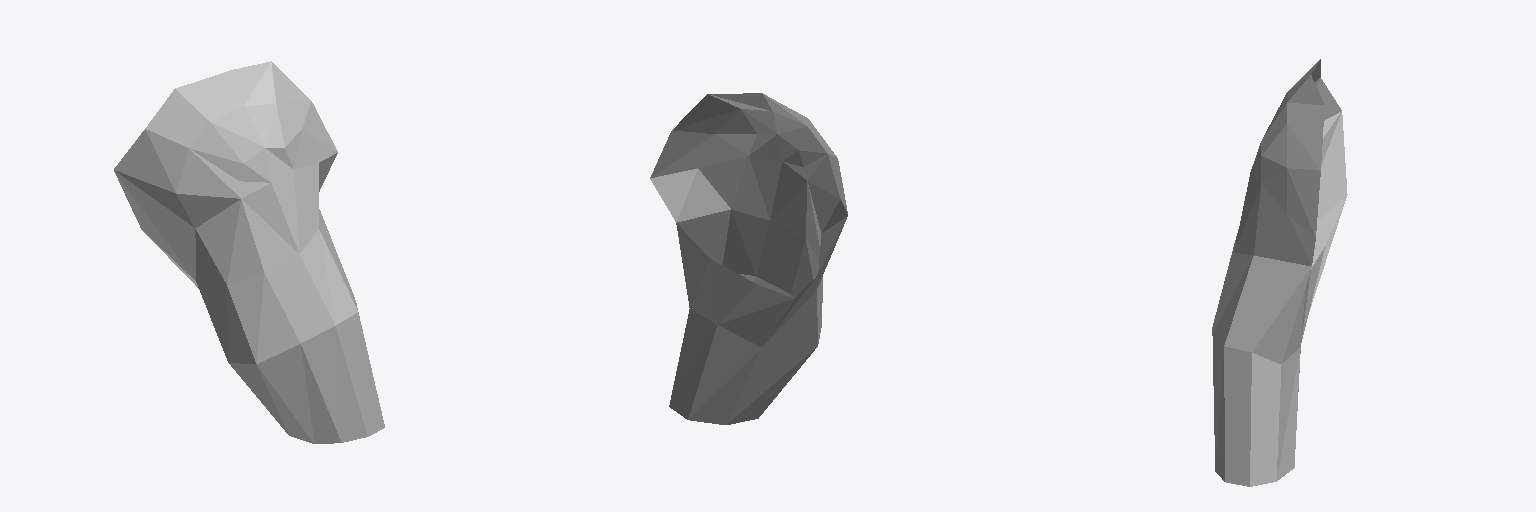
The model's file is VeloHombroIzqRES.obj.
The picture shows the model from 3 angles: view 1: azimuth 30°, elevation 25°; view 2: azimuth 150°, elevation 25°; view 3: azimuth 270°, elevation 25°; orthographic projection.
Parts seen in each view (by area): view 1: VeloHombroIzq:null_; view 2: VeloHombroIzq:null_; view 3: VeloHombroIzq:null_.
Part boxes in pixels (left/top/right/bottom): VeloHombroIzq:null_: left=114, top=61, right=384, bottom=443; VeloHombroIzq:null_: left=650, top=93, right=847, bottom=424; VeloHombroIzq:null_: left=1212, top=59, right=1347, bottom=486.
Size of the model in its own units: 0.3345 by 0.5067 by 0.1756.